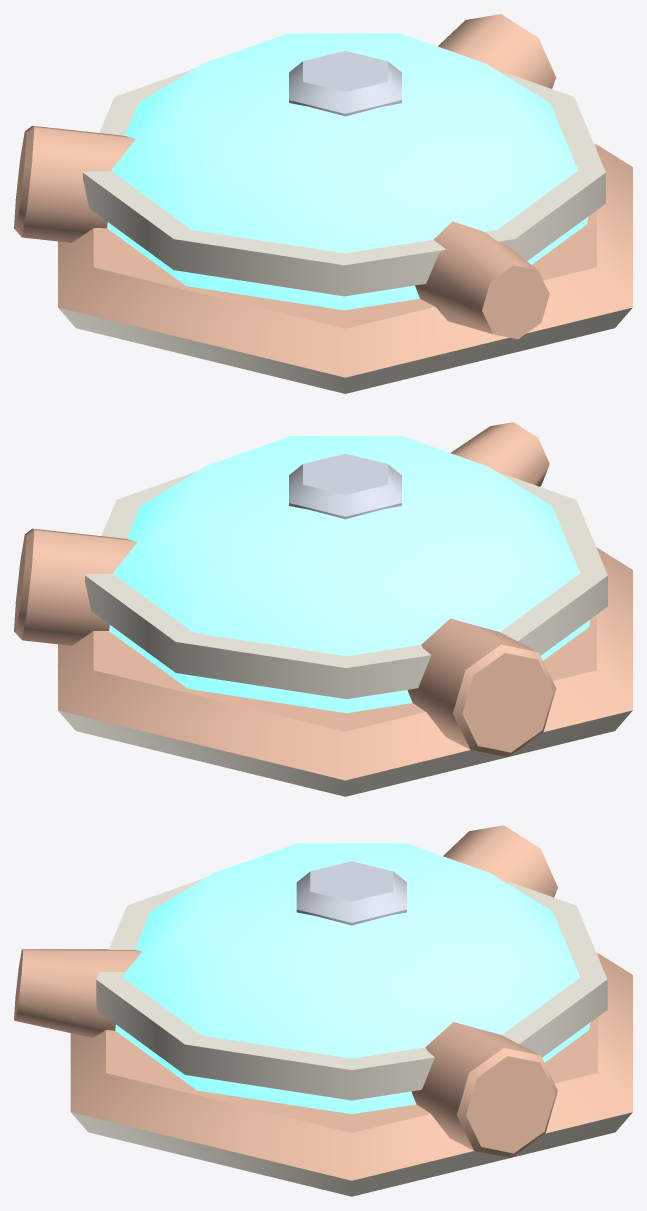
File: R4D_SlowTrap_LOD1.fbx
The picture shows the model from 3 angles, top to bottom: view 1: azimuth 30°, elevation 25°; view 2: azimuth 150°, elevation 25°; view 3: azimuth 270°, elevation 25°; orthographic projection. The views are drawn at different scales.
Visible parts, largest first — view 1: R4D_SlowTrap_LOD1; view 2: R4D_SlowTrap_LOD1; view 3: R4D_SlowTrap_LOD1.
Boxes of the visible parts, bbox=[...] form: R4D_SlowTrap_LOD1: bbox=[14, 14, 632, 393]; R4D_SlowTrap_LOD1: bbox=[14, 422, 632, 796]; R4D_SlowTrap_LOD1: bbox=[14, 825, 632, 1196].
Size of the model in its own units: 0.48 by 0.1523 by 0.4576.
